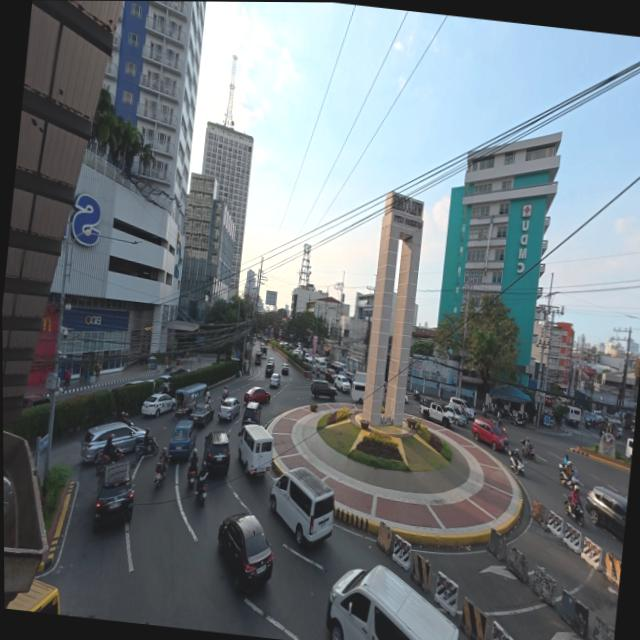car: (212, 507, 280, 596), (81, 415, 159, 472), (567, 479, 629, 537), (164, 418, 196, 463), (470, 418, 509, 452), (437, 400, 472, 428), (141, 392, 177, 418), (187, 401, 215, 426), (242, 384, 272, 407), (308, 380, 337, 403), (214, 397, 239, 423), (331, 370, 354, 391), (584, 411, 605, 428), (268, 374, 282, 390), (279, 361, 291, 376)
motorcycle: (556, 459, 578, 489)
vans: (316, 554, 462, 640), (260, 457, 339, 549), (234, 418, 278, 477), (562, 407, 581, 427)
